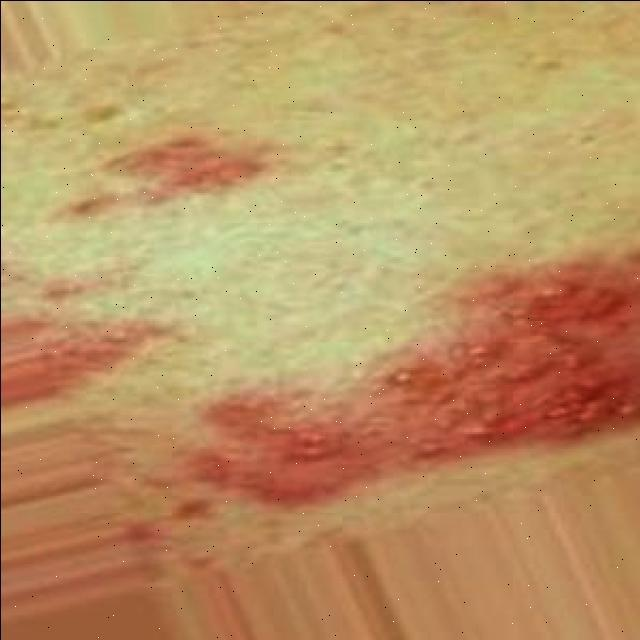Shingles: (185, 258, 640, 508), (91, 132, 268, 202), (56, 316, 174, 375)
